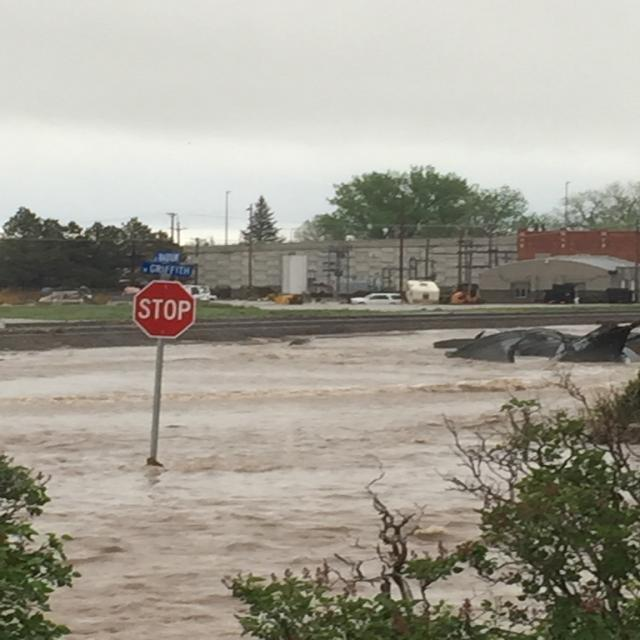Stop-sign: (131, 279, 197, 339)
